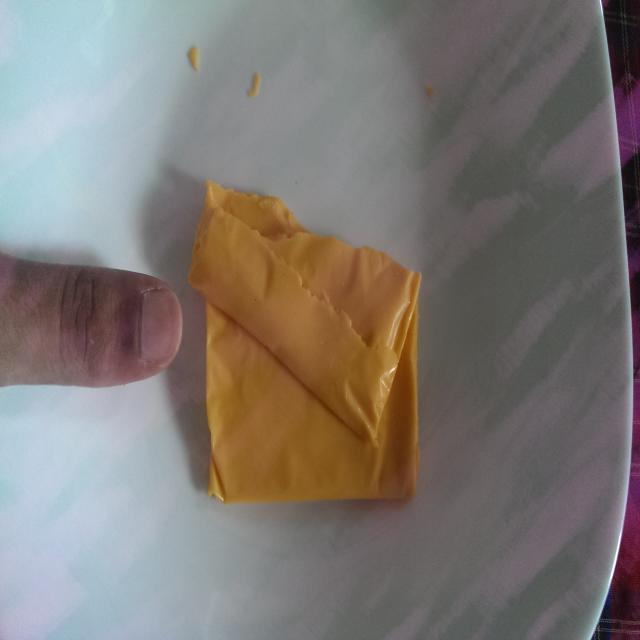Cheese: (184, 156, 433, 524)
Finger: (36, 250, 186, 400)
